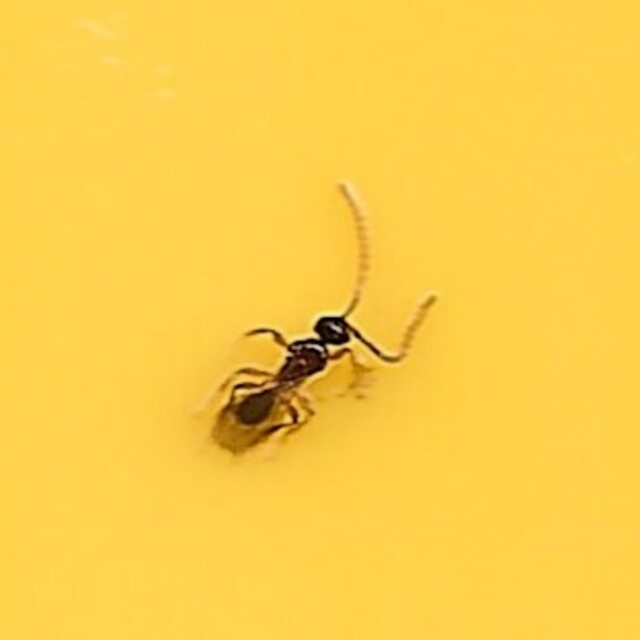Hymenoptera: (205, 180, 435, 460)
